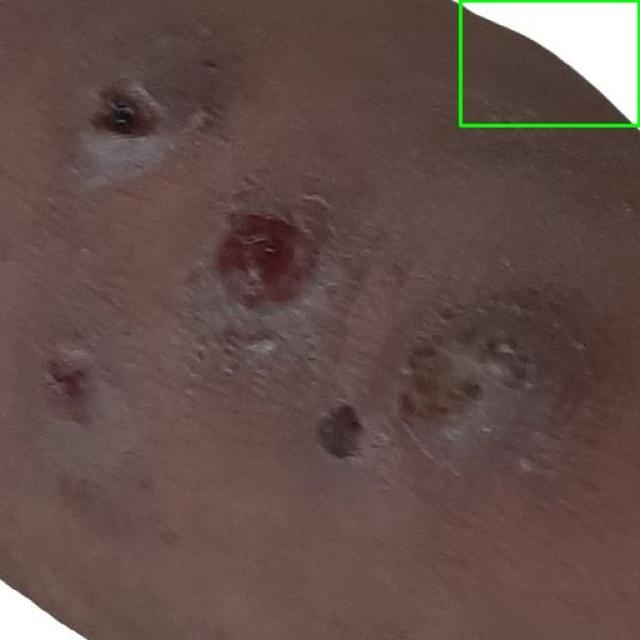Scabies: (460, 0, 639, 125)
